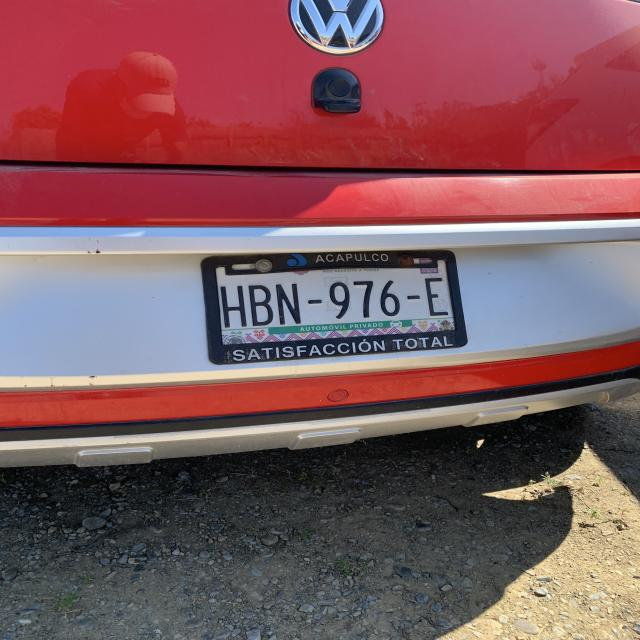placa: (208, 273, 462, 326)
